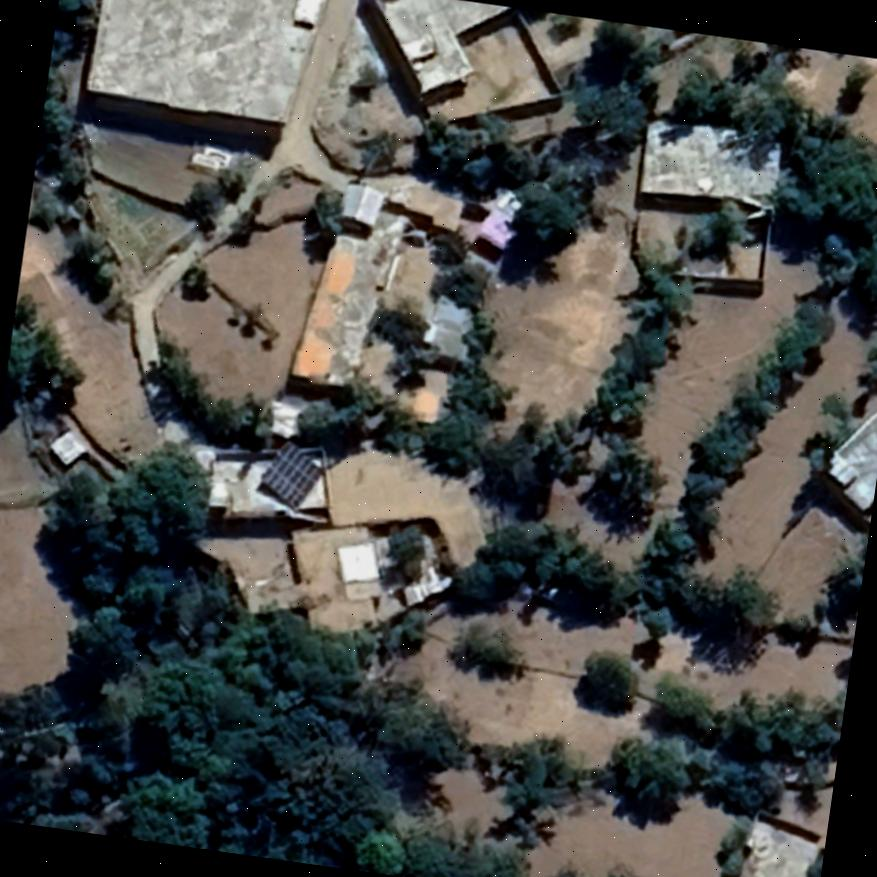Solarpanel: (253, 435, 325, 510)
